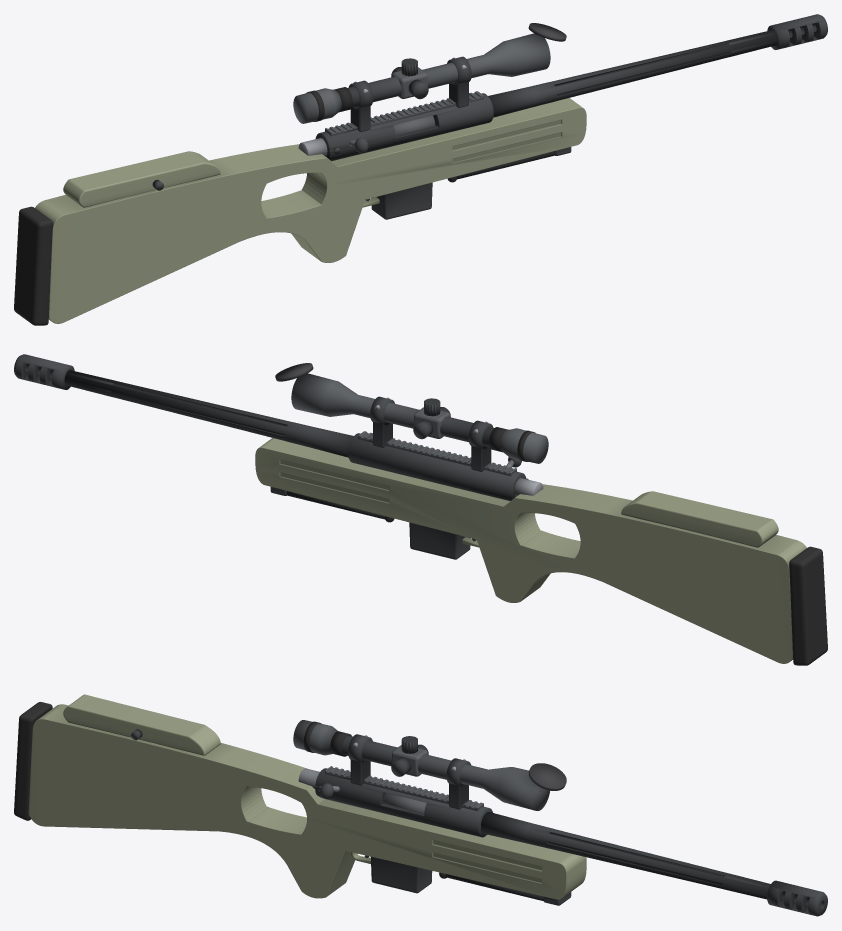
File: awp.glb
3 views of the same model, one above another, from view 1: azimuth 30°, elevation 25°; view 2: azimuth 150°, elevation 25°; view 3: azimuth 330°, elevation 25° (orthographic).
Visible parts, largest first — view 1: chassis, barrel, scope, cheek, buttpad, receiver, mag, muzzle_brake, scope_rail; view 2: chassis, barrel, scope, cheek, receiver, buttpad, mag, muzzle_brake, scope_rail; view 3: chassis, barrel, scope, cheek, receiver, buttpad, mag, muzzle_brake, scope_rail, cap_front, bolt_body, turret_base (+3 smaller).
Part boxes in pixels (box(x1,y1,x2,y2)): chassis: box(35, 98, 586, 323); barrel: box(488, 30, 777, 117); scope: box(293, 33, 550, 123); cheek: box(63, 151, 220, 207); buttpad: box(14, 206, 52, 325); receiver: box(315, 93, 493, 161); mag: box(371, 182, 432, 219); muzzle_brake: box(767, 14, 827, 49); scope_rail: box(325, 91, 483, 136); chassis: box(255, 438, 806, 663); barrel: box(64, 370, 353, 457); scope: box(291, 373, 548, 463); cheek: box(621, 491, 778, 547); receiver: box(348, 433, 526, 501); buttpad: box(789, 546, 827, 665); mag: box(409, 522, 470, 559); muzzle_brake: box(14, 354, 74, 389); scope_rail: box(358, 431, 516, 476); chassis: box(28, 704, 586, 899); barrel: box(481, 812, 770, 899); scope: box(293, 720, 549, 810); cheek: box(63, 694, 220, 755); receiver: box(315, 768, 492, 837); buttpad: box(14, 702, 52, 820); mag: box(371, 856, 432, 893); muzzle_brake: box(767, 880, 827, 916); scope_rail: box(325, 766, 483, 811); cap_front: box(528, 763, 566, 790); bolt_body: box(383, 793, 426, 813); turret_base: box(392, 745, 427, 776).
Bounding box in the file's own units: 1.46 × 0.308 × 0.1031.
